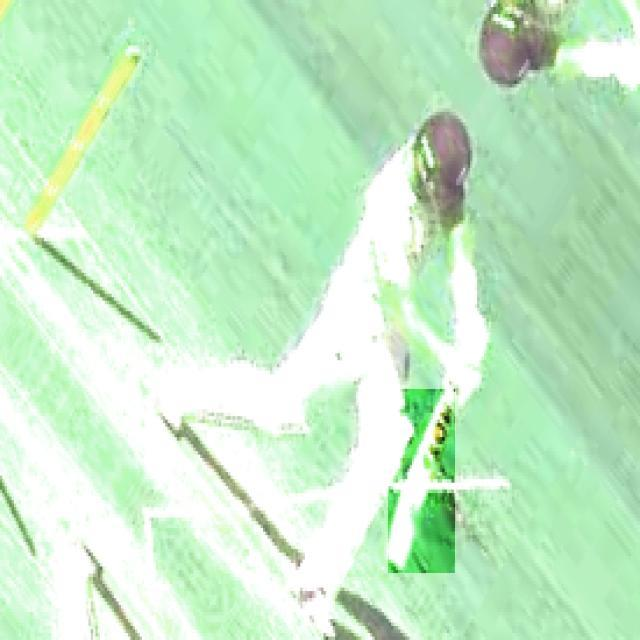bat: (386, 389, 458, 574)
